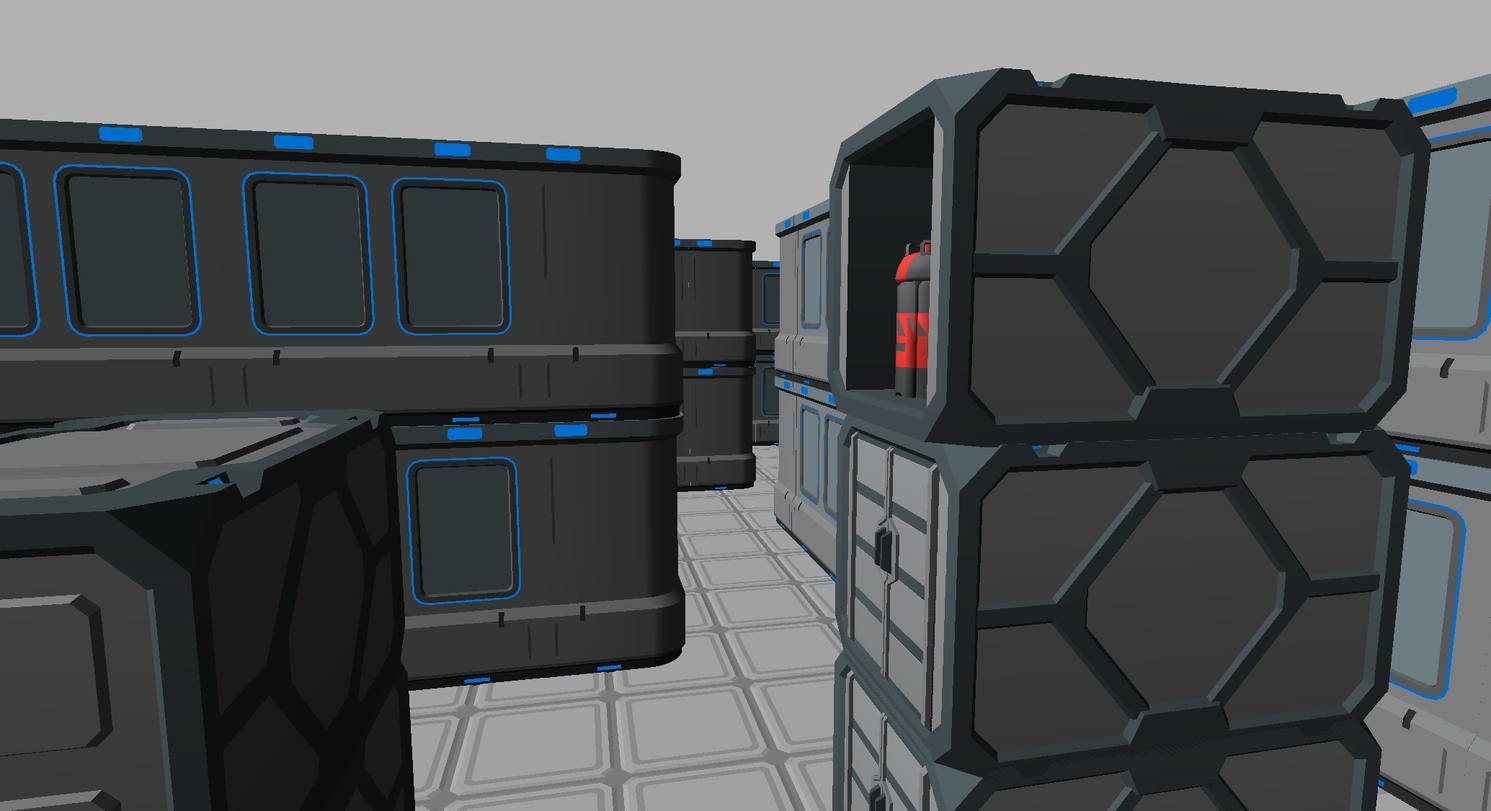red_barrel: (896, 240, 930, 397)
